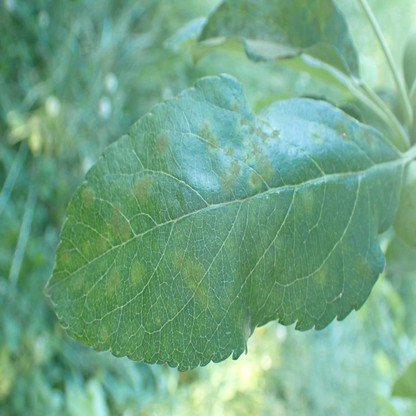powdery_mildew: (243, 317, 251, 348)
scab: (201, 0, 357, 71), (171, 251, 209, 303), (242, 137, 271, 181), (241, 112, 280, 142), (111, 201, 132, 241), (219, 160, 239, 196), (134, 175, 154, 203), (105, 268, 122, 300), (200, 121, 219, 149), (298, 186, 314, 214), (154, 130, 170, 158), (353, 253, 370, 279), (130, 262, 146, 284), (362, 123, 376, 147), (314, 264, 328, 285), (82, 187, 95, 209), (335, 118, 349, 137), (97, 234, 110, 252), (70, 274, 84, 289), (97, 325, 109, 342), (250, 172, 262, 187), (81, 241, 91, 257), (223, 145, 234, 158), (60, 252, 71, 265), (233, 101, 240, 113), (313, 130, 321, 138)
